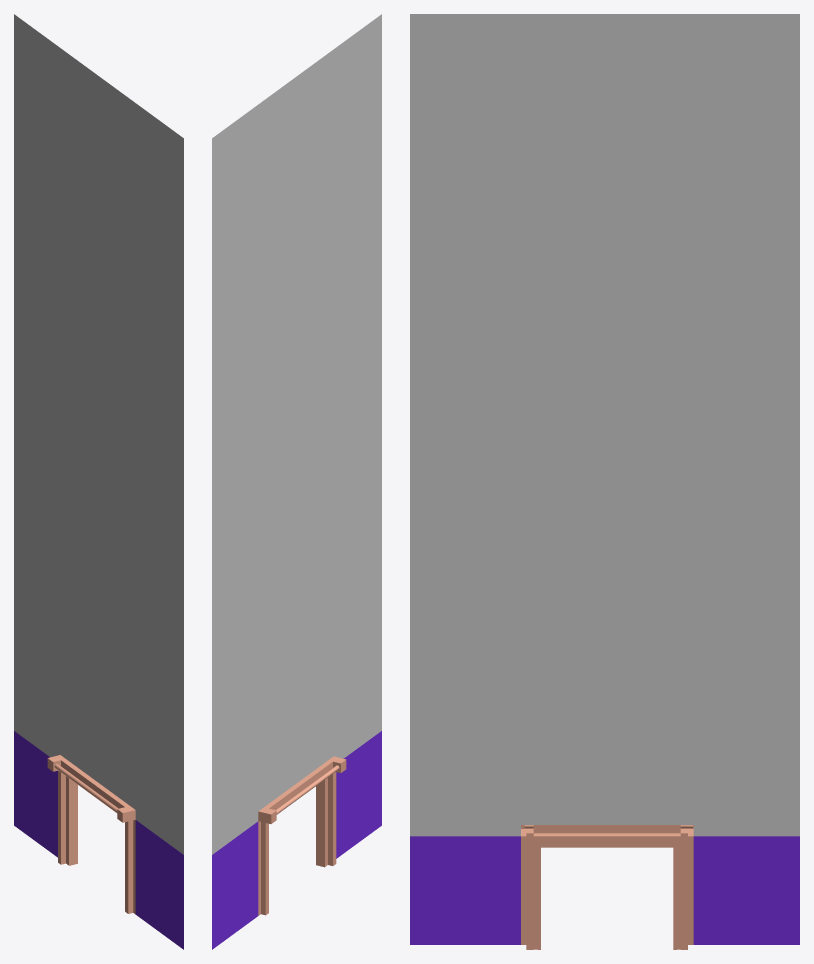
File: Mur.FBX
3 renders of one model, left to right at view 1: azimuth 30°, elevation 25°; view 2: azimuth 150°, elevation 25°; view 3: azimuth 270°, elevation 25°, orthographic. The views are drawn at different scales.
Visible parts, largest first — view 1: Mur; view 2: Mur; view 3: Mur.
Part boxes in pixels (x1,y1,x2,y2): Mur: [14, 14, 183, 949]; Mur: [212, 14, 381, 949]; Mur: [410, 14, 799, 949].
Size of the model in its own units: 100 by 3577 by 1358.
